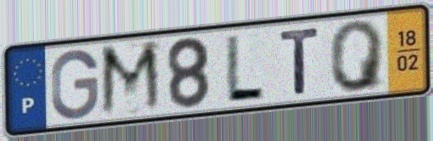8: (165, 35, 211, 112)
G: (49, 47, 101, 122)
L: (223, 32, 268, 103)
M: (98, 38, 166, 120)
Q: (327, 17, 388, 95)
T: (278, 25, 323, 97)
